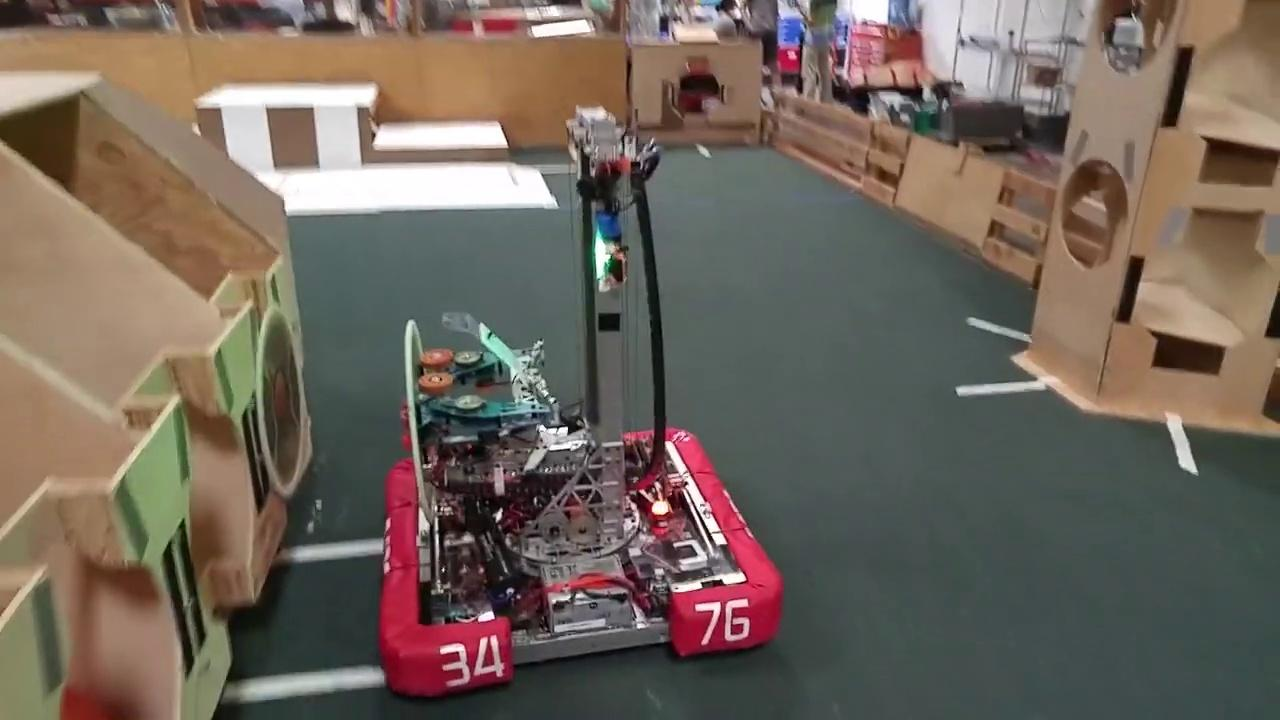robot: (366, 105, 791, 707)
